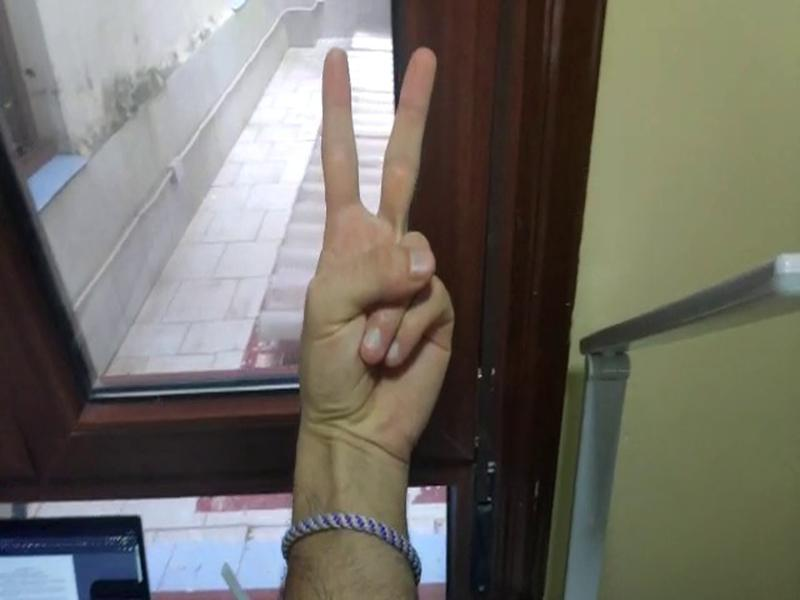Peace: (283, 42, 475, 442)
